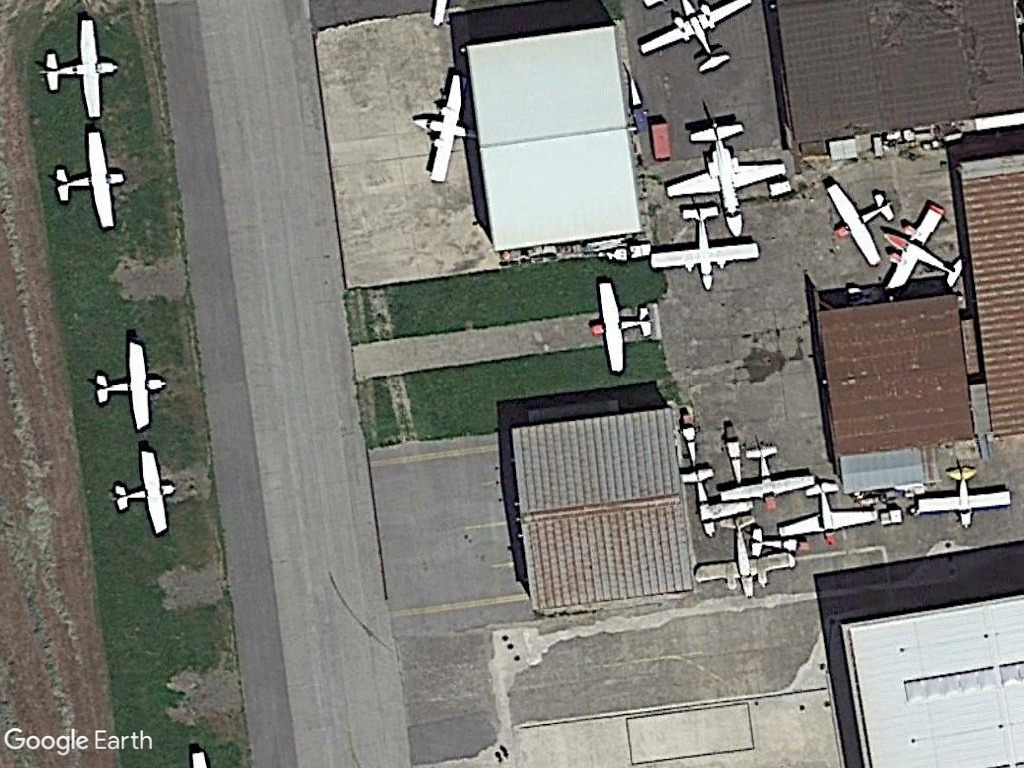chartered: (661, 121, 787, 242)
trainer: (646, 205, 763, 294), (33, 14, 122, 121), (44, 127, 130, 237), (89, 338, 172, 435), (582, 277, 656, 380), (105, 447, 183, 541), (714, 444, 815, 514), (913, 463, 1014, 533), (820, 177, 894, 268)
